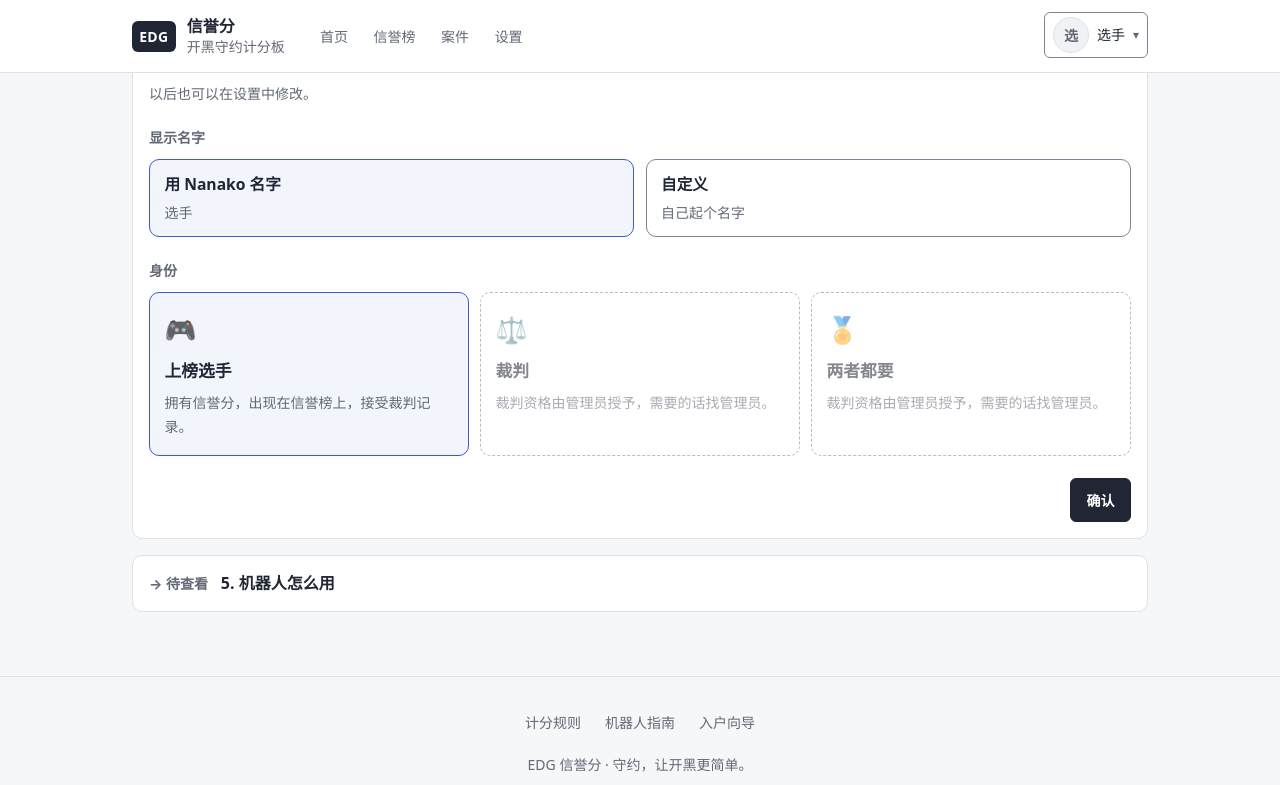
登录回跳 — back from the login page › binding return still asks an unfinished identity before announcing retirement
The image size is (1280, 785).
(page scrolled)
Check: the text "约局功能已下线" is not shown
Click the button "确认" at (1101, 500), box [1070,478,1131,522]
(page scrolled)
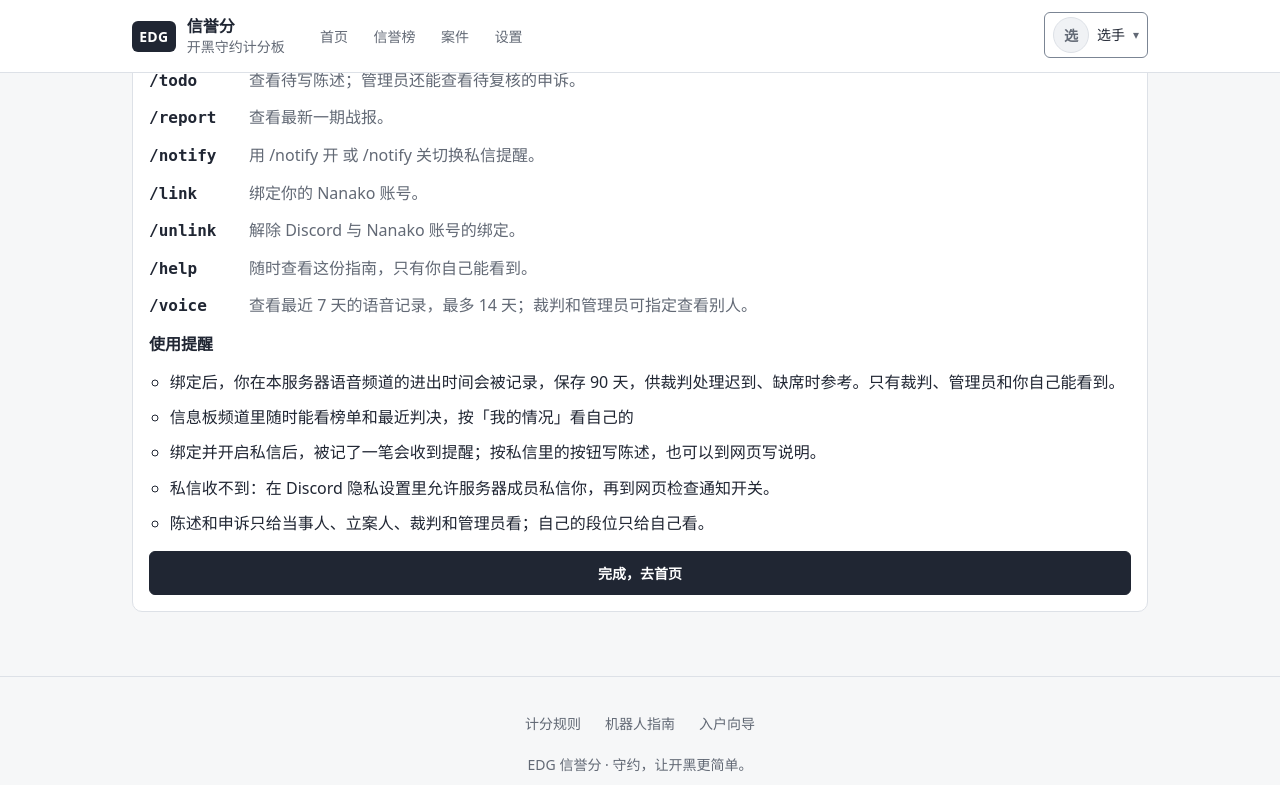
Click the button "完成，去首页" at (640, 573), box [149,551,1131,595]
(page scrolled)
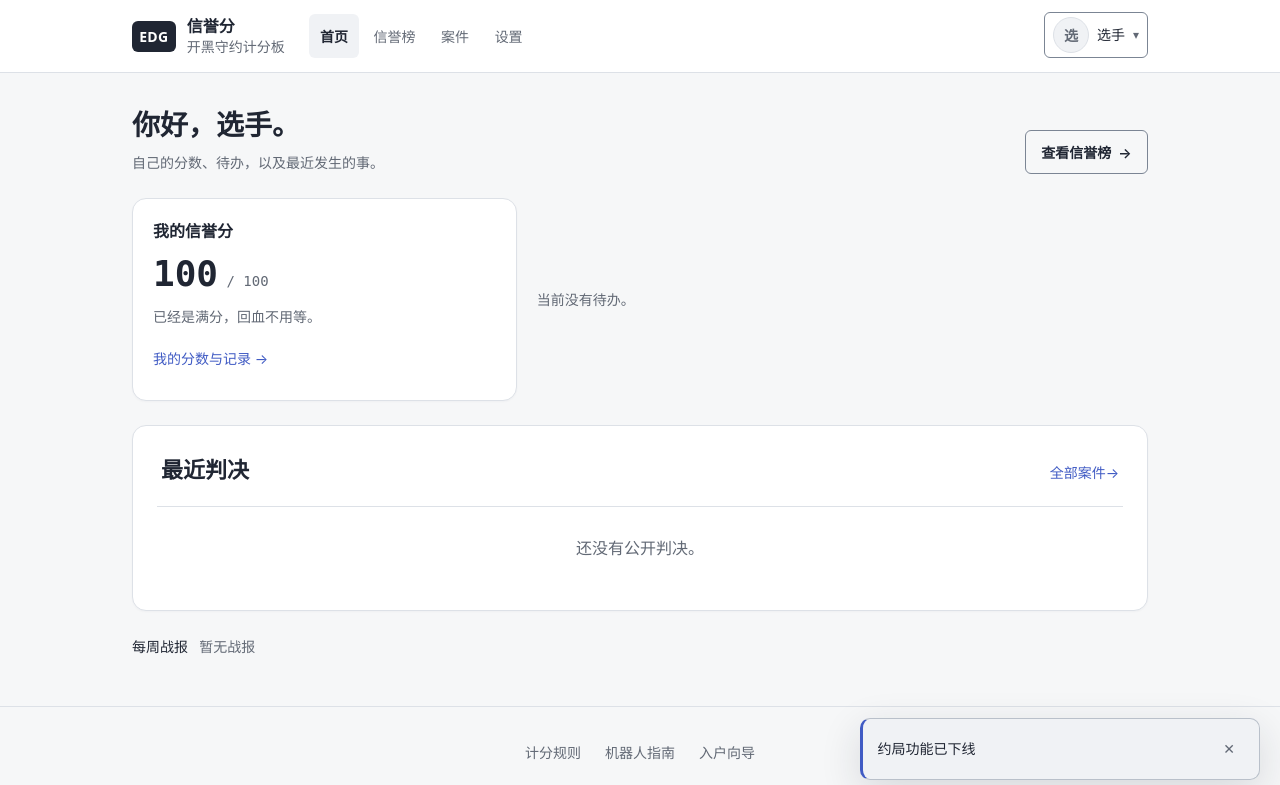
Check: the text "约局功能已下线" is shown, box [877,739,975,758]
